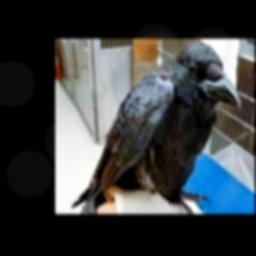Crow: (71, 41, 240, 212)
